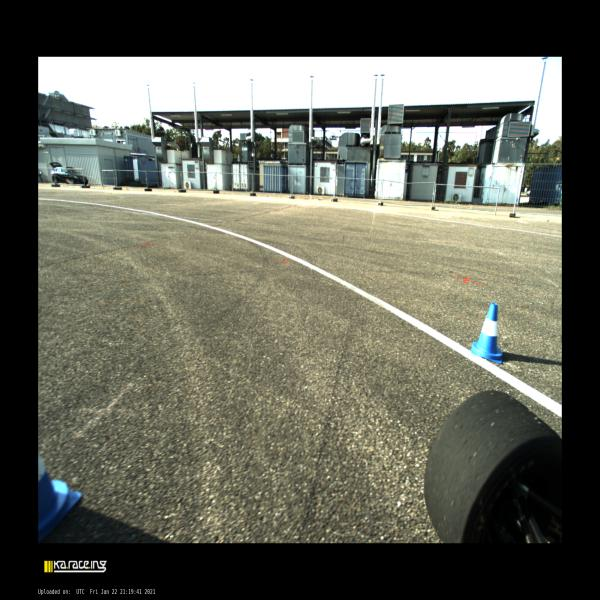blue_cone: (471, 303, 503, 363)
